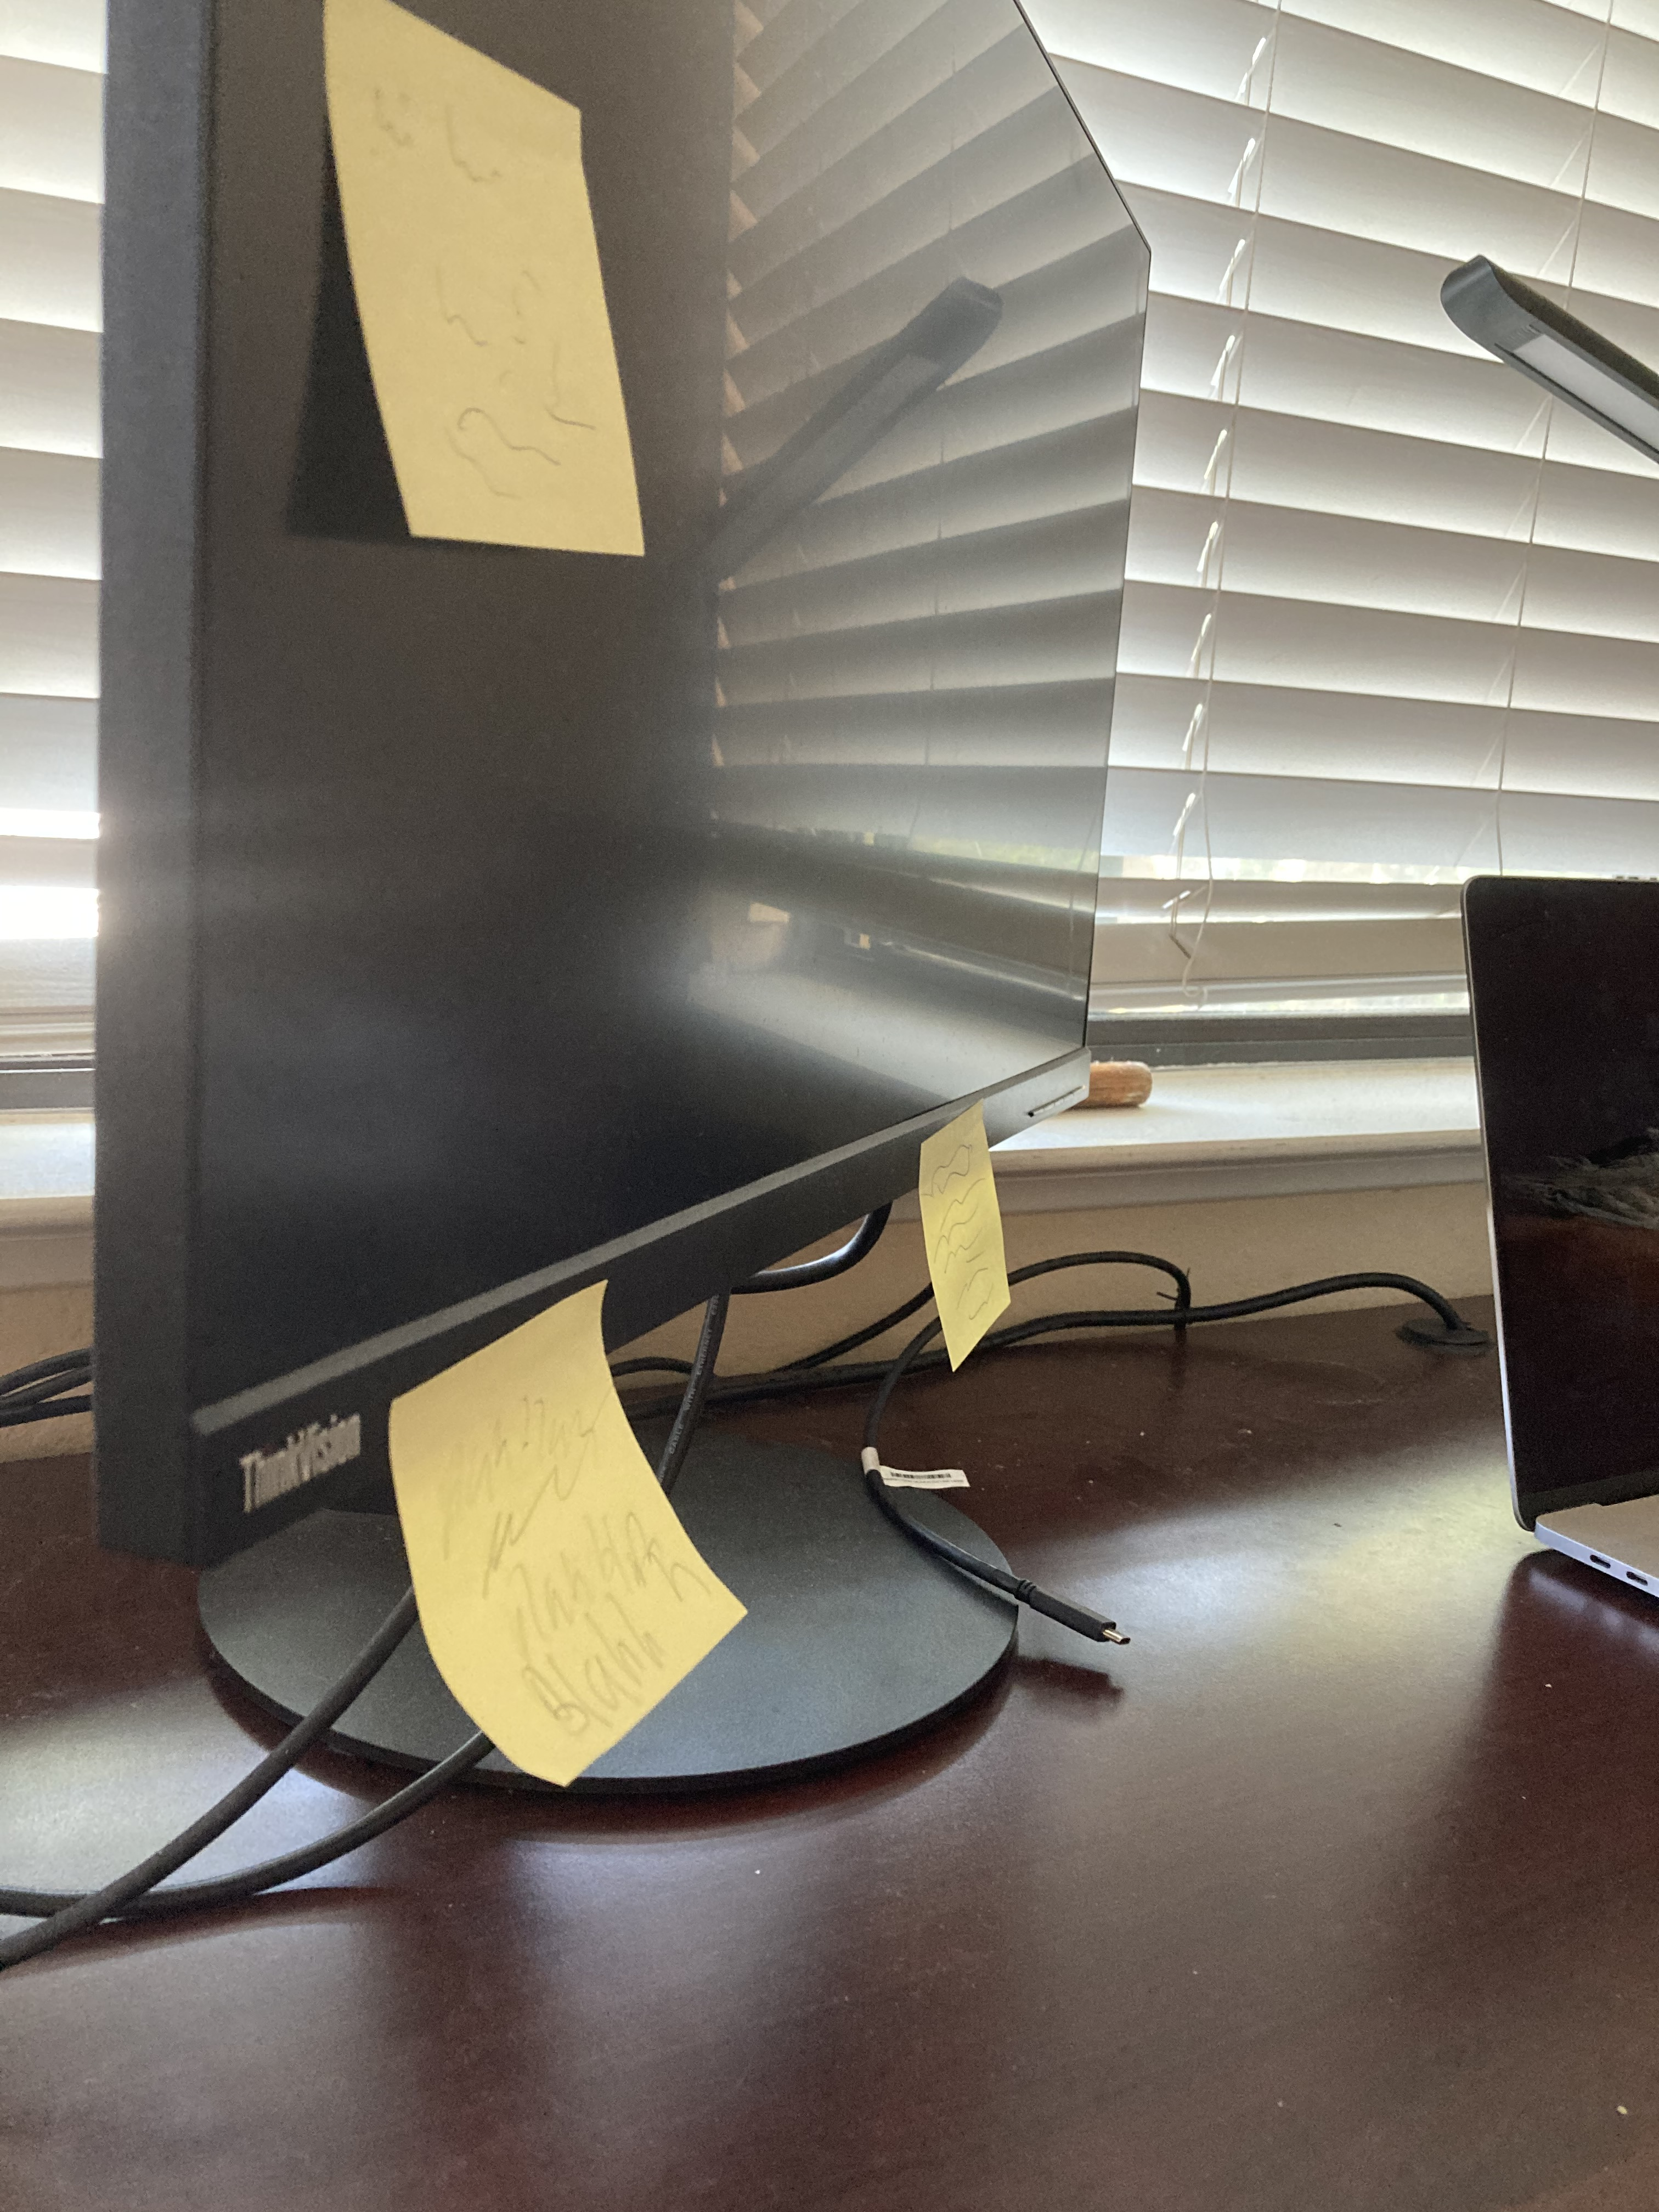Note: (310, 0, 652, 559), (392, 1277, 741, 1782), (910, 1115, 1019, 1374)
